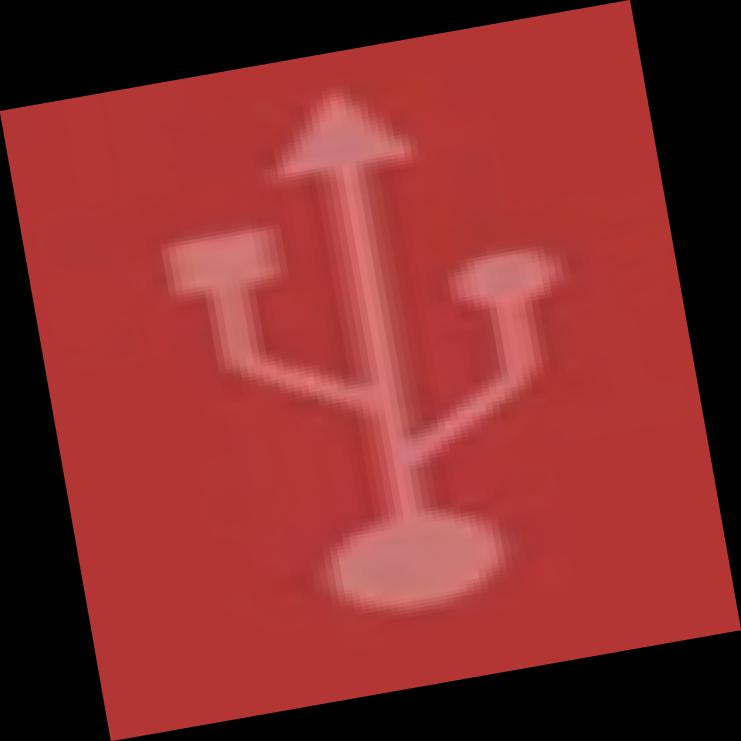usb: (6, 0, 741, 740)
